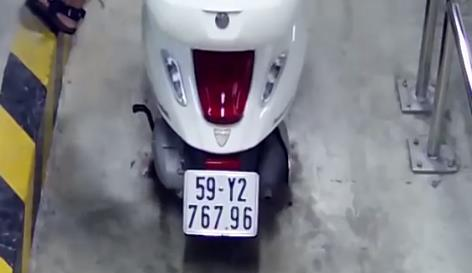lisence: (183, 169, 258, 238)
